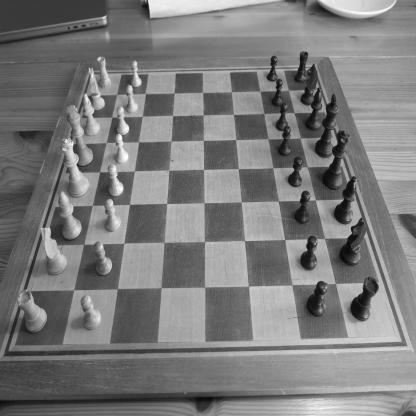black-bishop: (334, 176, 357, 224), (306, 87, 322, 130)
black-king: (315, 93, 339, 158)
black-knight: (340, 217, 366, 266), (300, 63, 318, 106)
black-pawn: (306, 280, 327, 317), (300, 235, 318, 271), (294, 190, 310, 224), (288, 156, 303, 188), (278, 125, 292, 156), (276, 102, 288, 132), (272, 78, 284, 107), (266, 55, 278, 82)
black-queen: (322, 130, 351, 191)
black-rook: (350, 276, 379, 322), (294, 51, 308, 84)
white-bishop: (58, 190, 82, 241), (82, 93, 101, 137)
white-king: (66, 104, 94, 167)
white-knight: (40, 227, 67, 276), (88, 67, 105, 111)
white-pawn: (80, 295, 102, 330), (93, 241, 113, 277), (104, 198, 121, 233), (107, 164, 124, 197), (116, 106, 130, 136), (115, 133, 128, 164), (126, 84, 138, 114), (130, 60, 142, 88)
white-queen: (59, 137, 89, 198)
white-rook: (16, 289, 48, 334), (96, 56, 112, 89)
